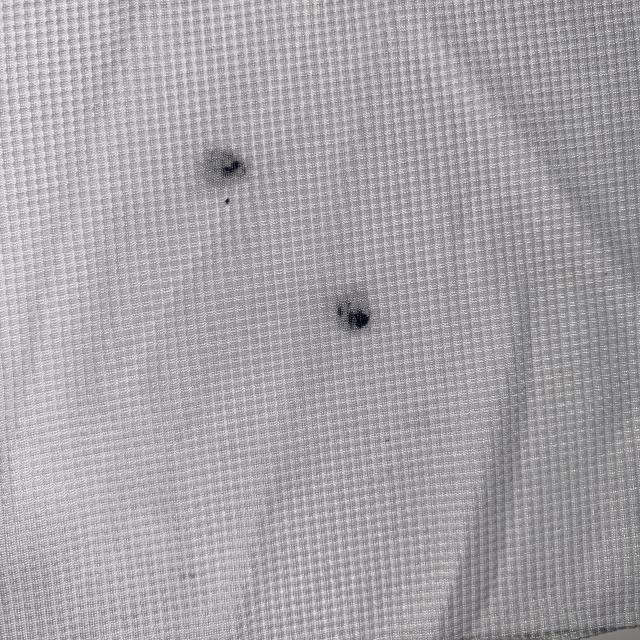Stain: (199, 145, 252, 194), (328, 286, 379, 335)
